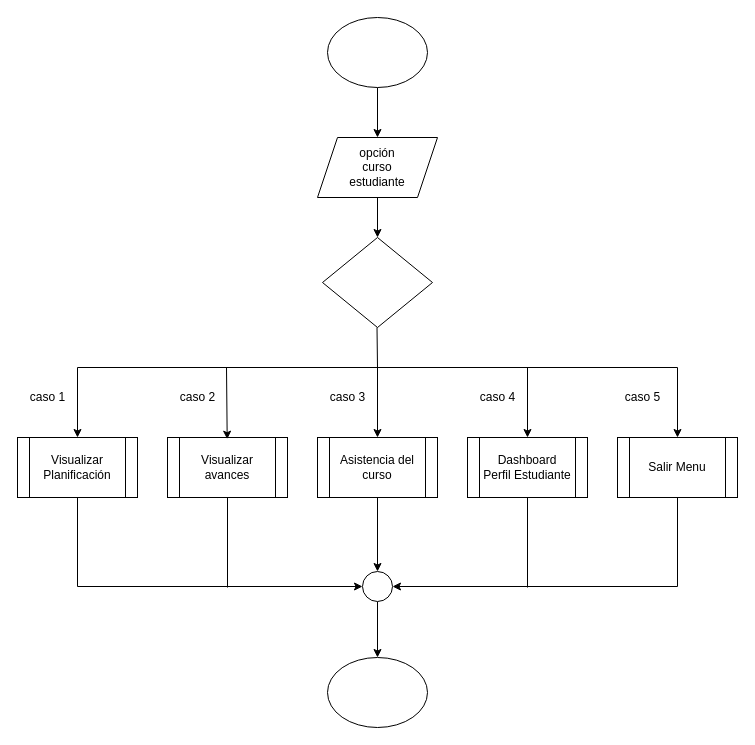
Some shapes in this 755 by 745 pixel diagram are drawn without their labels. Here are the shapes that lost their labels. From the top down, the box of each, then its label:
(326, 16, 428, 88): opción apoderado
(322, 236, 432, 328): Opción selecciónCurso
(326, 656, 428, 728): Fin Algoritmo
